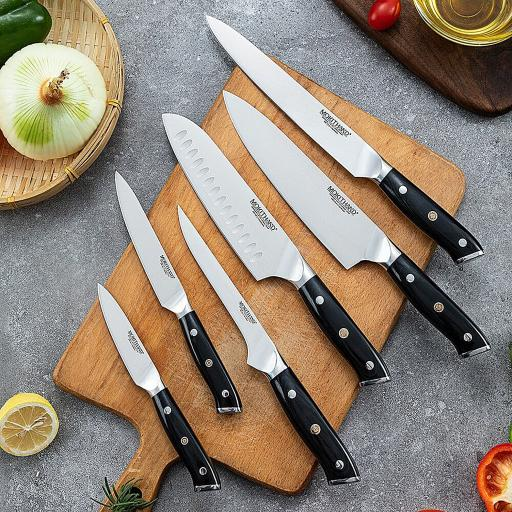knife: (208, 94, 492, 363)
